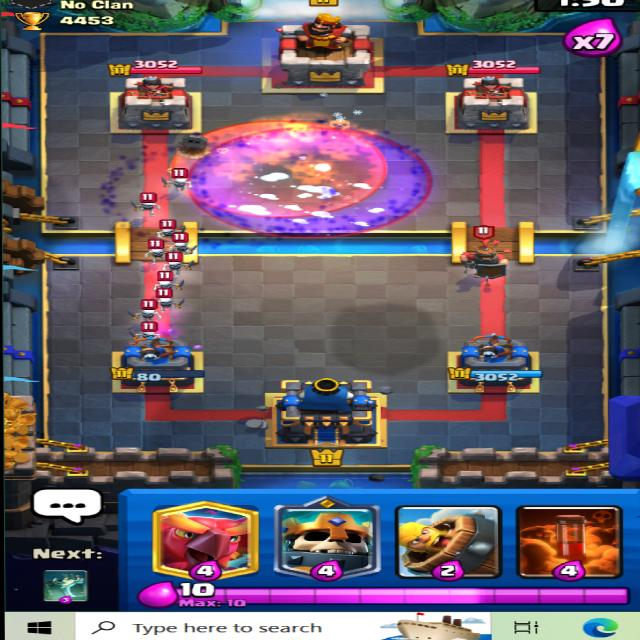graveyard: (188, 126, 436, 240)
poison: (176, 120, 393, 210)
royal-recruits: (451, 222, 515, 280)
skeleton: (168, 228, 202, 260), (132, 320, 168, 350), (154, 216, 195, 242), (160, 169, 197, 193), (152, 258, 194, 278), (134, 241, 167, 265), (135, 304, 167, 326), (152, 273, 178, 294), (154, 292, 184, 310), (141, 192, 165, 214)
